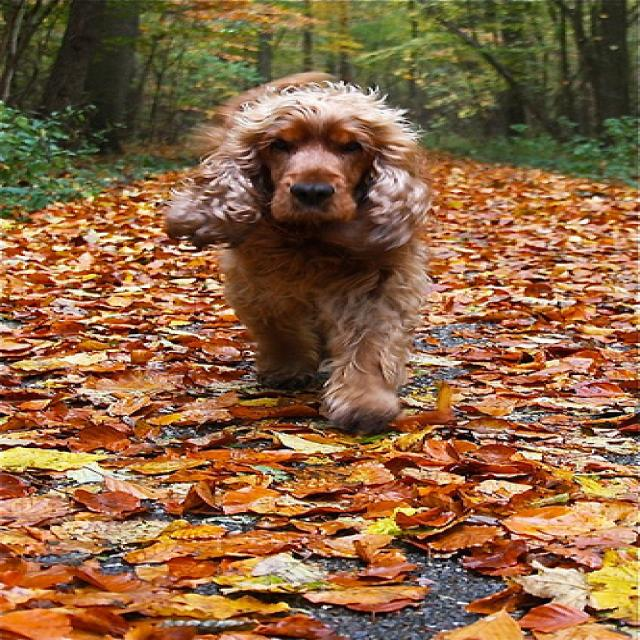dog-english_cocker_spaniel: (146, 69, 446, 443)
